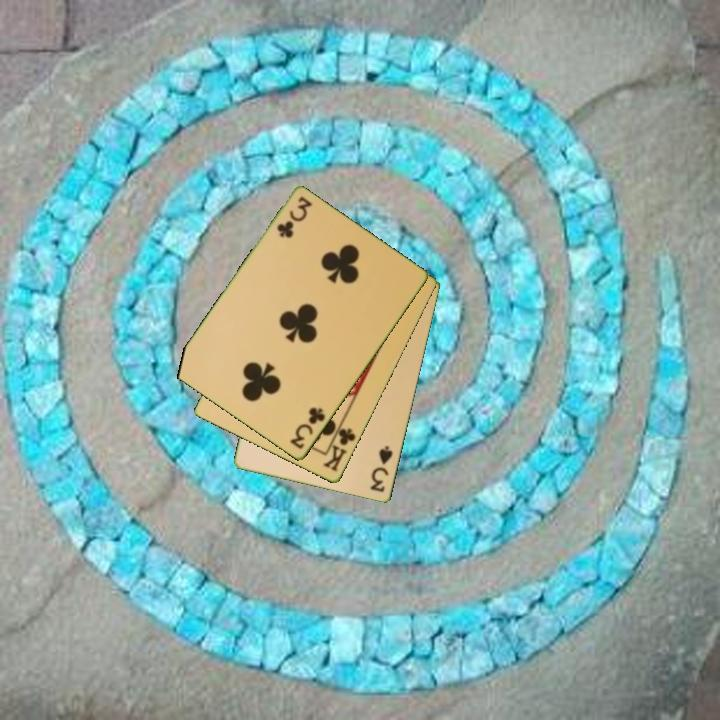3c: (273, 193, 315, 241), (287, 404, 328, 453)
3s: (367, 443, 396, 495)
Kc: (319, 419, 359, 475)
